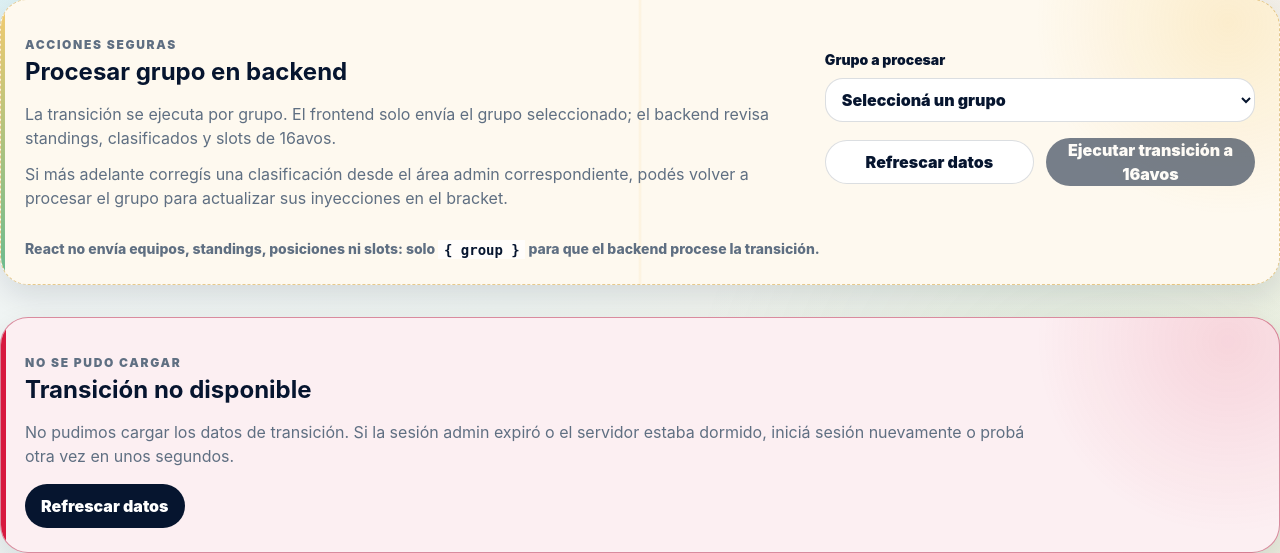
Scenario: AdminTransitionPage › renders a controlled error state and can refresh data
The image size is (1280, 553).
(page scrolled)
expect the message shows "Transición no disponible": met, box [25,375,312,404]
Click the button "Refrescar datos" below "Transición no disponible": point(105, 506) [25,484,184,528]
(page scrolled)
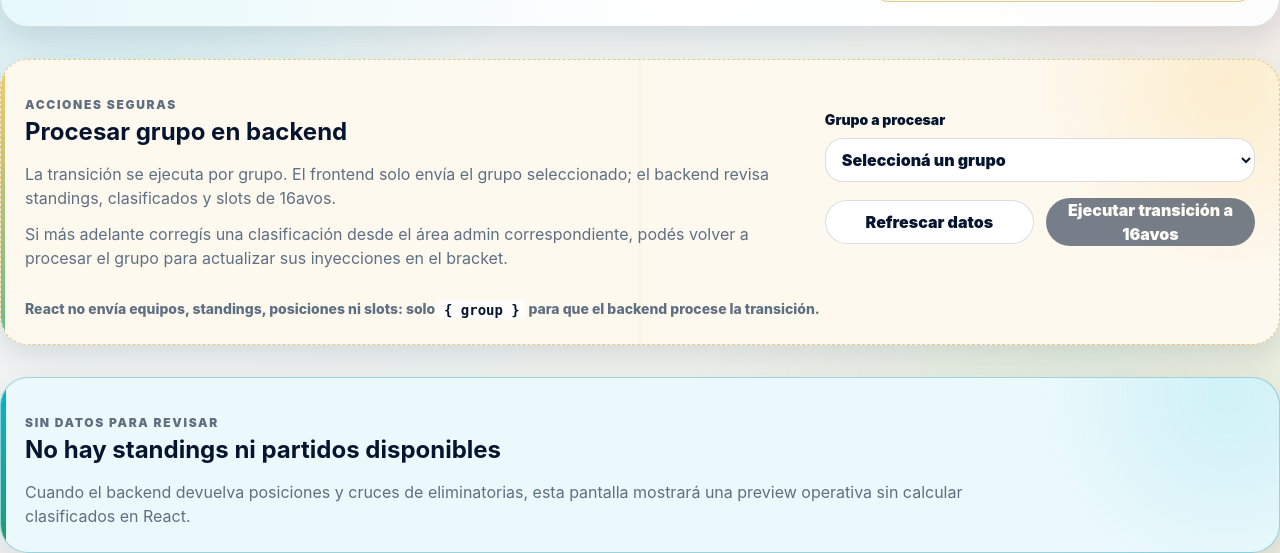
expect the heading "No hay standings ni partidos disponibles" is shown: met, box [25,435,501,464]
